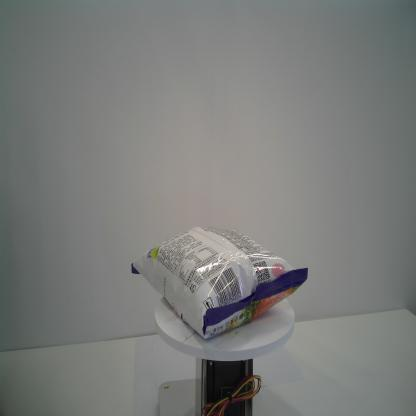Puffed Food: (131, 226, 309, 341)
